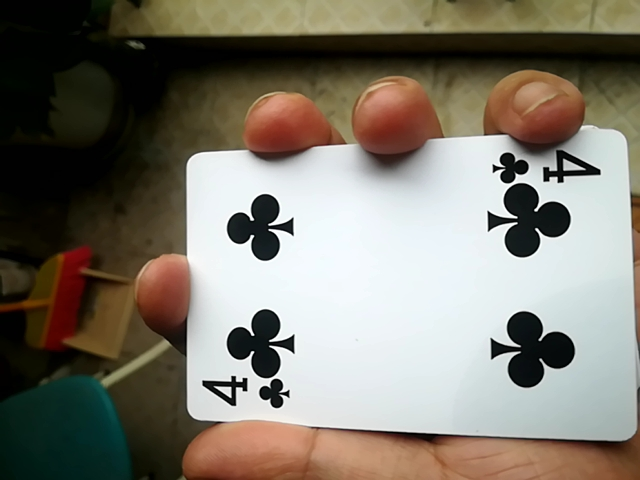mh 4: (166, 131, 634, 444)
